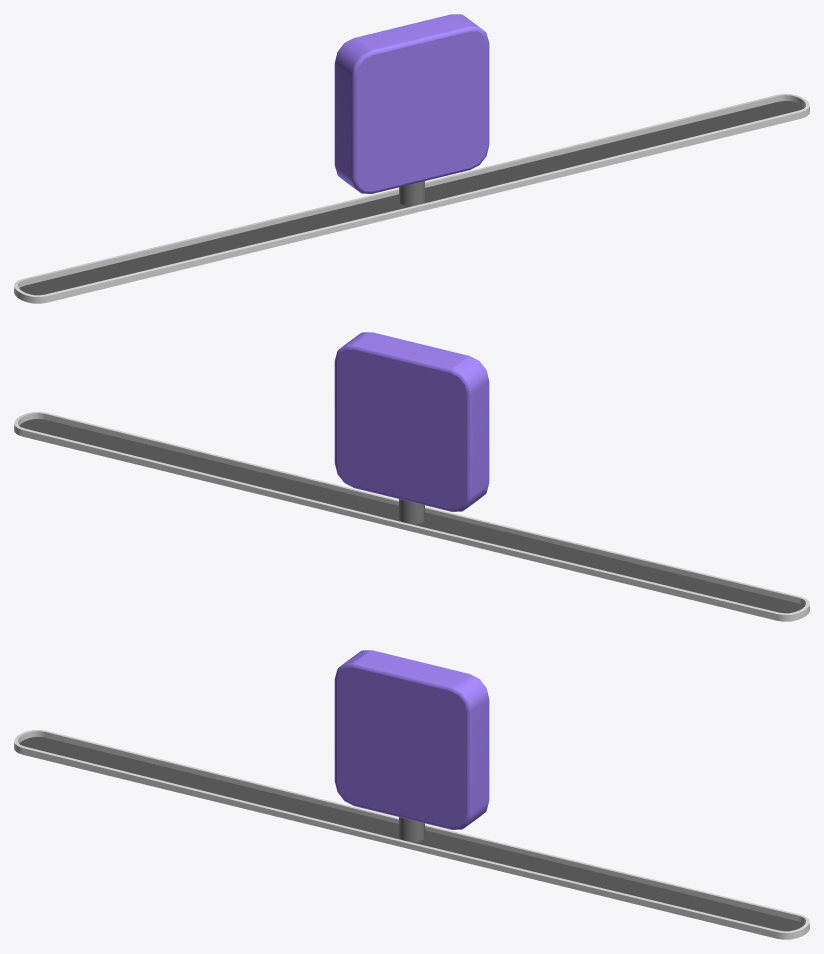
File: Obstacle_55.fbx
3 renders of one model, top to bottom at view 1: azimuth 30°, elevation 25°; view 2: azimuth 150°, elevation 25°; view 3: azimuth 330°, elevation 25°, orthographic.
Visible parts, largest first — view 1: Bia, De; view 2: Bia, De; view 3: Bia, De.
Boxes of the visible parts, <box> form: Bia: <box>334,14,489,206</box>; De: <box>14,94,809,303</box>; Bia: <box>334,332,489,524</box>; De: <box>14,412,809,621</box>; Bia: <box>334,650,489,842</box>; De: <box>14,730,809,939</box>.
Size of the model in its own units: 9.92 by 2.04 by 0.5226.
